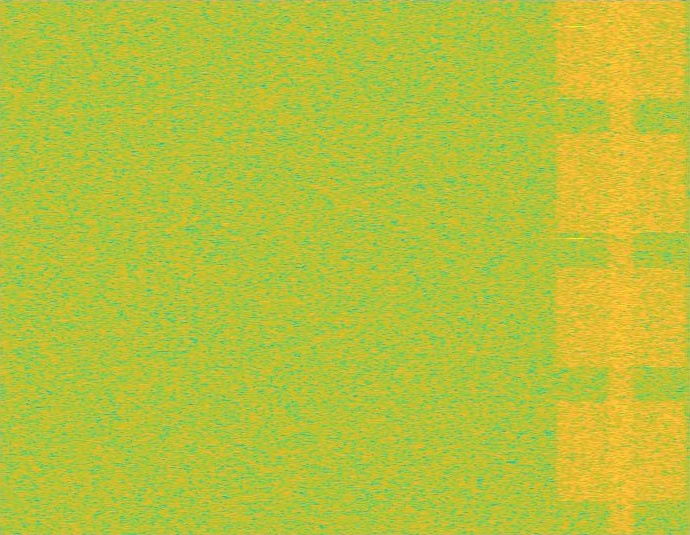5G: (552, 0, 689, 534)
DSSS: (605, 0, 637, 534)
Radar: (569, 0, 583, 534)
